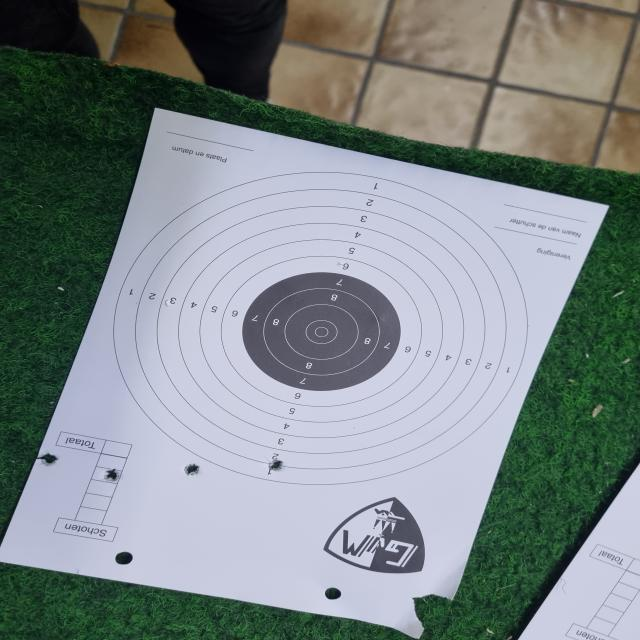3: (267, 458, 284, 473)
Black Contour: (242, 272, 401, 392)
Target: (112, 172, 530, 486)
hole: (37, 451, 60, 469), (102, 468, 121, 484), (182, 463, 200, 478)
